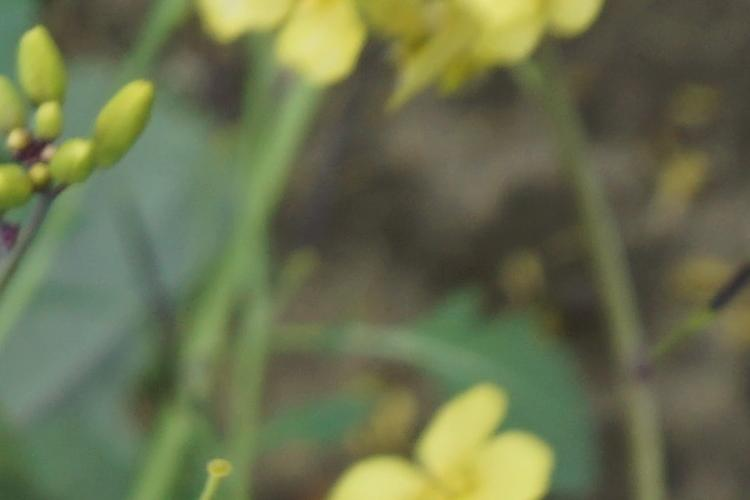bud: (93, 80, 157, 173), (16, 25, 75, 104), (56, 132, 101, 193), (3, 156, 37, 224), (2, 74, 30, 133), (37, 102, 66, 145), (30, 163, 57, 202)
yellow: (214, 1, 613, 101), (334, 393, 566, 500)
